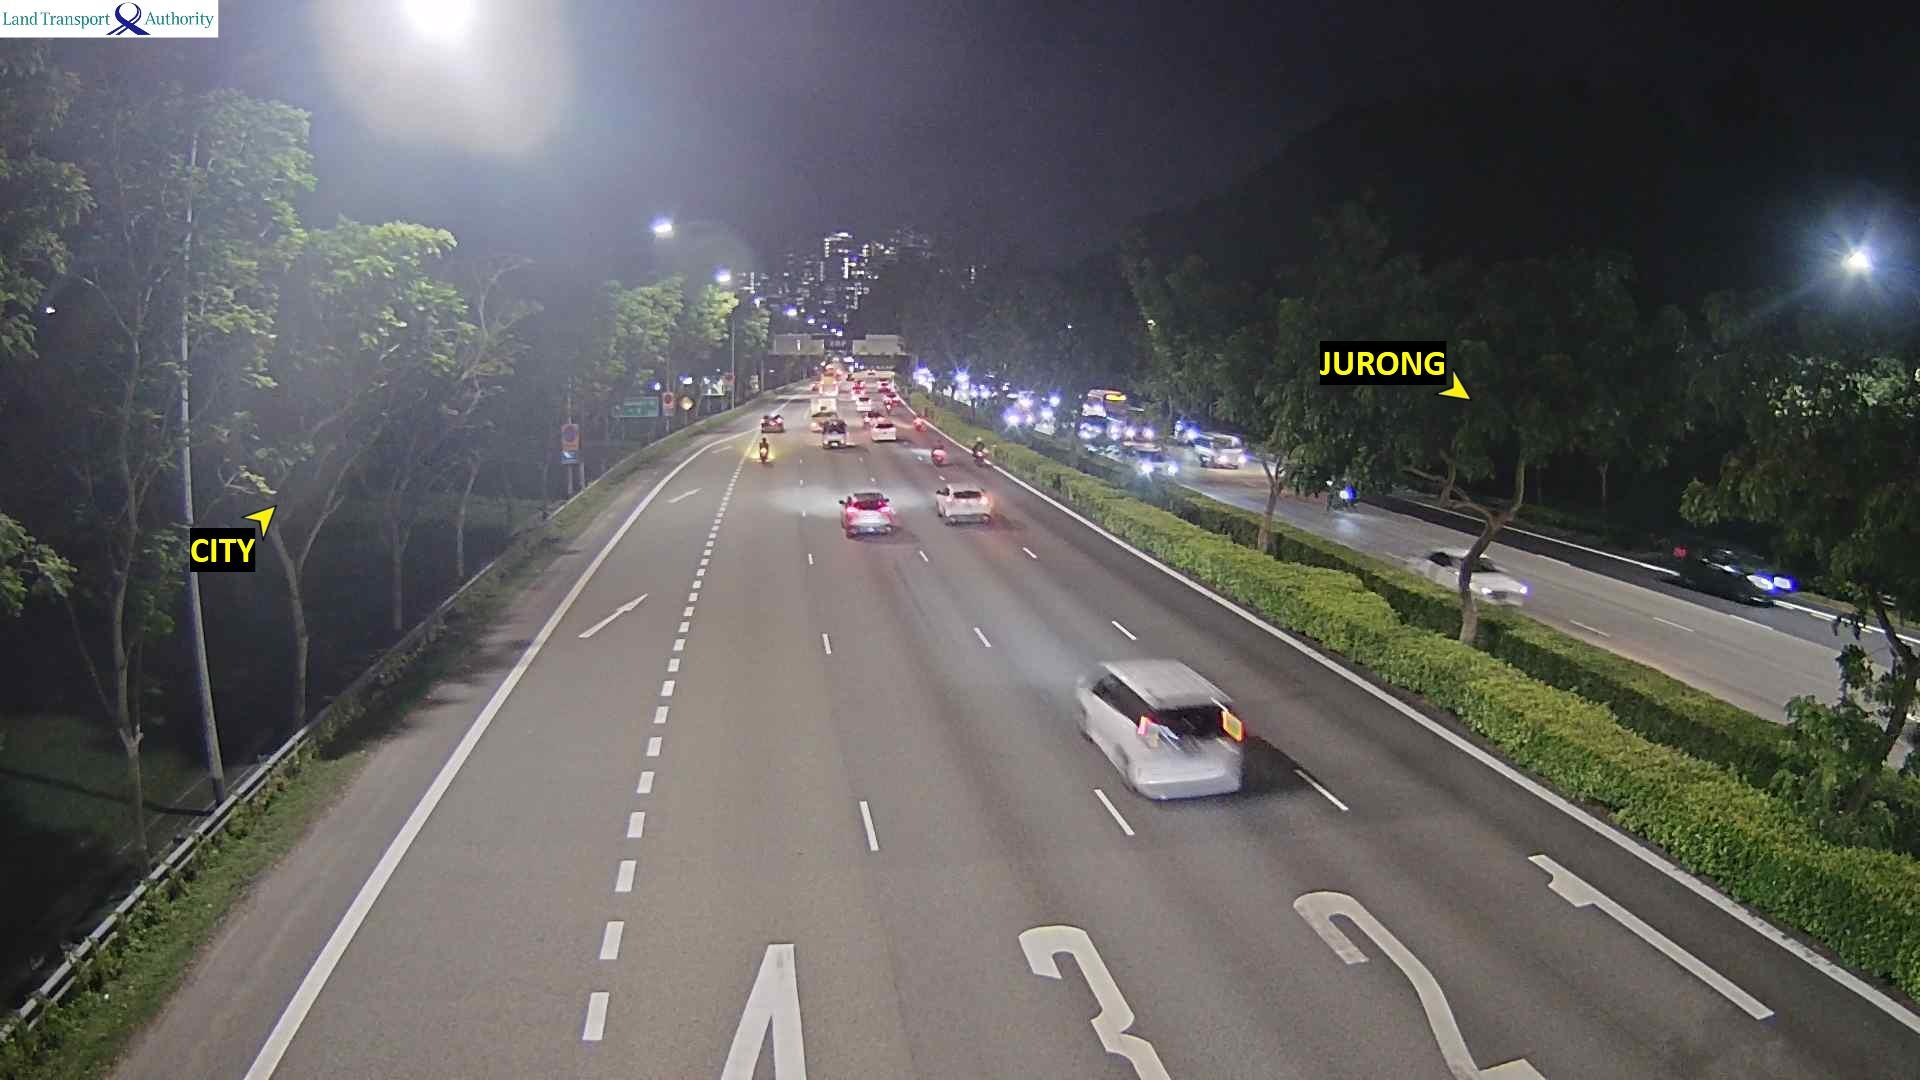bus: (1083, 388, 1126, 418), (820, 371, 839, 398)
cars: (1073, 655, 1247, 800), (1669, 538, 1797, 607), (1423, 547, 1528, 607), (837, 489, 897, 537), (934, 483, 992, 524), (1125, 440, 1178, 479), (1171, 414, 1200, 444), (998, 407, 1036, 427), (869, 417, 895, 440), (1014, 392, 1043, 413), (760, 411, 785, 433), (1044, 393, 1067, 410), (930, 444, 947, 465), (855, 397, 876, 414), (860, 411, 885, 423), (969, 388, 989, 400), (997, 381, 1013, 394), (952, 372, 969, 384), (851, 386, 865, 400), (811, 381, 823, 394), (886, 393, 901, 404), (844, 372, 856, 382), (878, 382, 890, 392), (855, 378, 866, 388), (866, 368, 877, 376)
motorcycle: (1325, 477, 1358, 512), (971, 435, 988, 471), (758, 436, 771, 465), (1040, 404, 1052, 426), (911, 414, 924, 430), (885, 397, 894, 415)
trucks: (1189, 431, 1245, 468), (1106, 407, 1153, 439), (810, 397, 847, 431), (820, 418, 847, 448)
